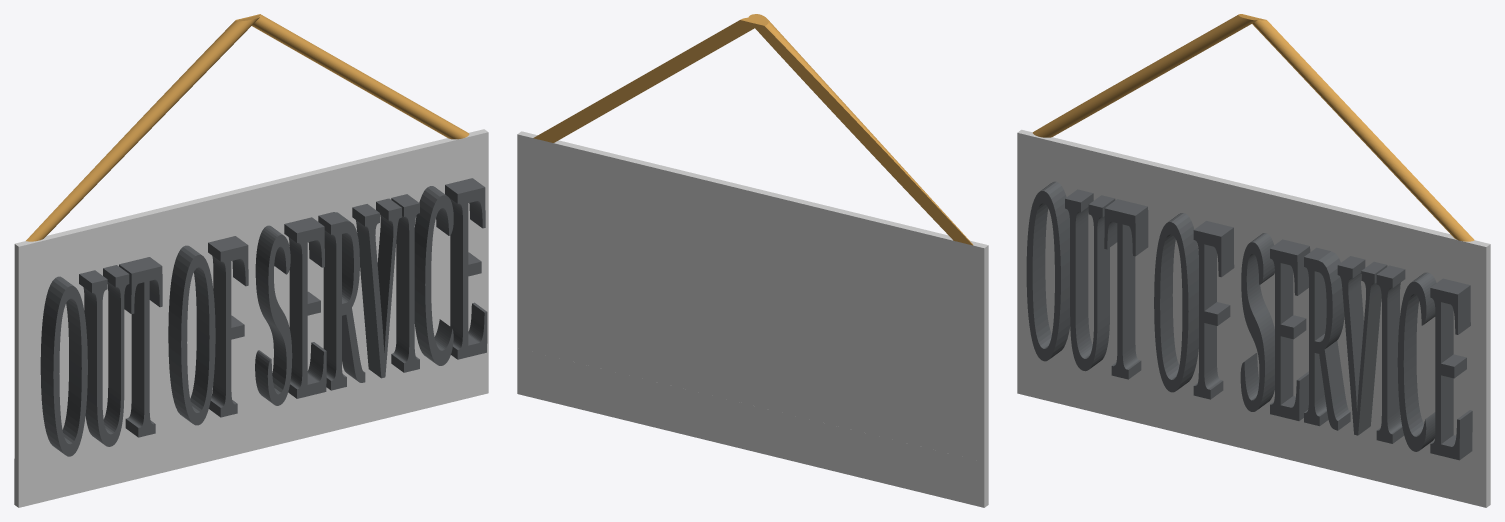
Rendered from Neat Elzing-Esboo.glb.
3 views of the same model, side by side, from view 1: azimuth 30°, elevation 25°; view 2: azimuth 150°, elevation 25°; view 3: azimuth 330°, elevation 25° (orthographic).
Visible parts, largest first — view 1: Mesh_Mesh_head_geo.001_lambert2SG.001; view 2: Mesh_Mesh_head_geo.001_lambert2SG.001; view 3: Mesh_Mesh_head_geo.001_lambert2SG.001.
Part boxes in pixels (x1=…): Mesh_Mesh_head_geo.001_lambert2SG.001: x1=14, y1=14, x2=488, y2=507; Mesh_Mesh_head_geo.001_lambert2SG.001: x1=517, y1=14, x2=988, y2=507; Mesh_Mesh_head_geo.001_lambert2SG.001: x1=1017, y1=14, x2=1490, y2=507.
Size of the model in its own units: 0.064 by 0.0565 by 0.004.
